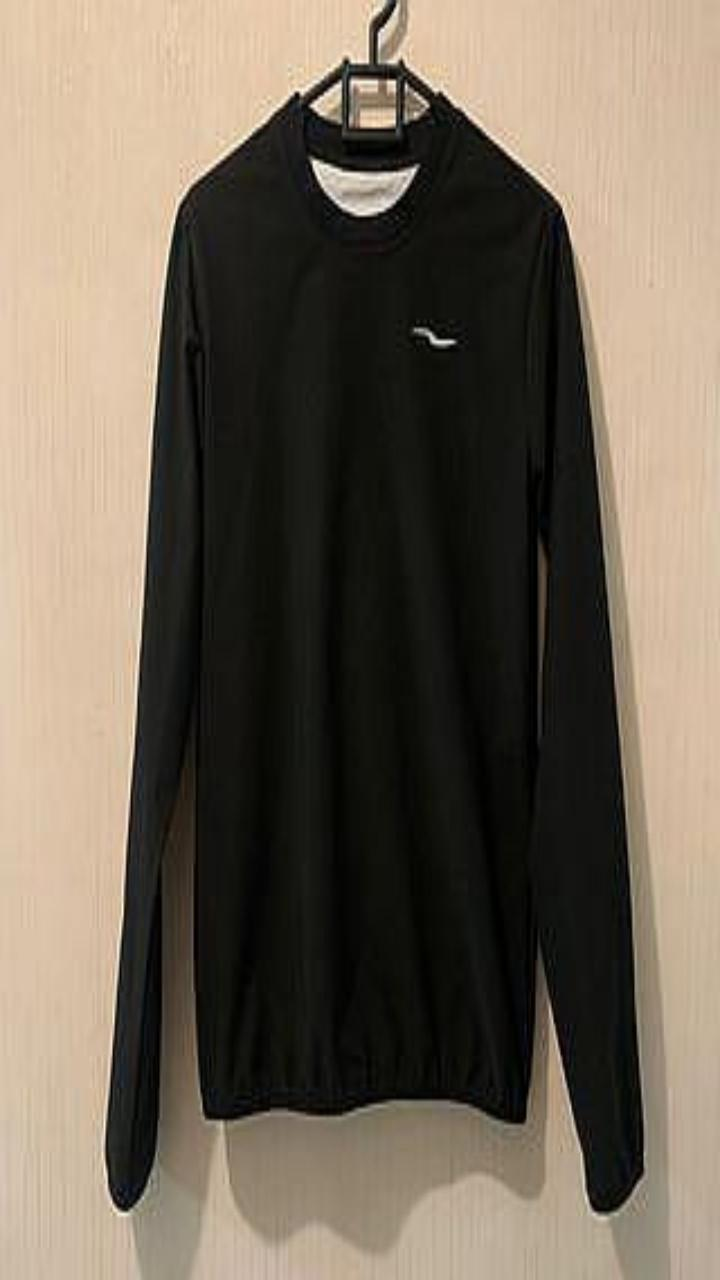T-Shirt: (105, 92, 642, 1211)
